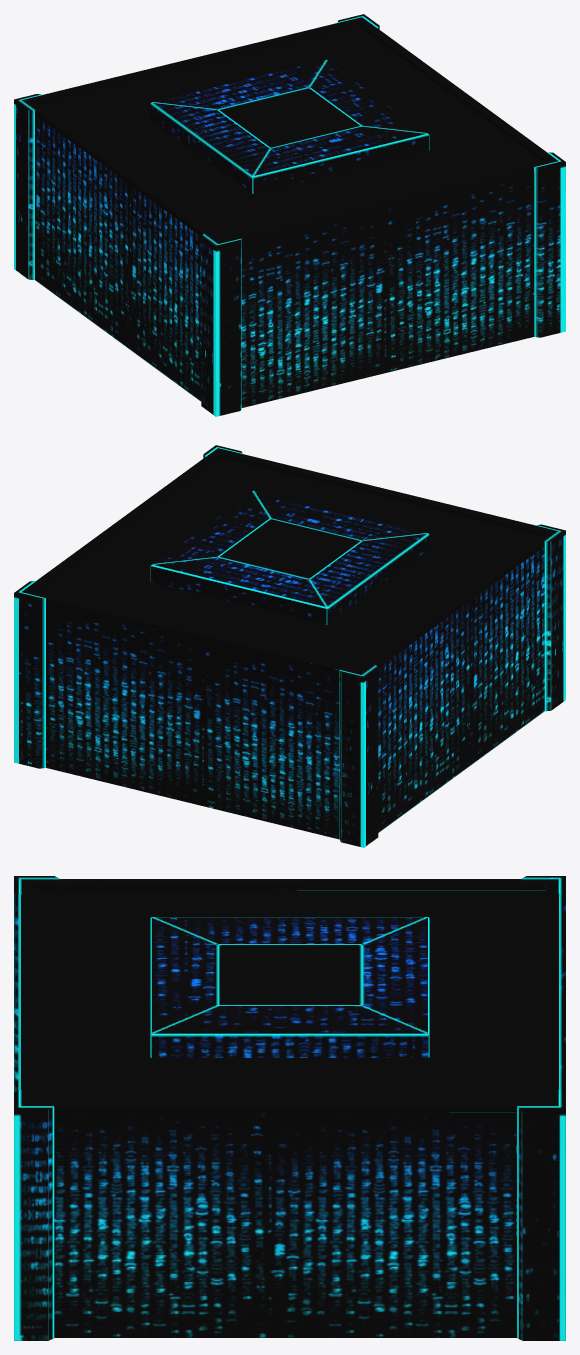
Rendered from Castle_s.gltf.
3 views of the same model, one above another, from view 1: azimuth 30°, elevation 25°; view 2: azimuth 150°, elevation 25°; view 3: azimuth 270°, elevation 25° (orthographic). The views are drawn at different scales.
Parts seen in each view (by area): view 1: Cube.005_Cube.008; view 2: Cube.005_Cube.008; view 3: Cube.005_Cube.008.
Part boxes in pixels (x1,y1,x2,y2): Cube.005_Cube.008: (14, 14, 565, 416); Cube.005_Cube.008: (14, 445, 565, 847); Cube.005_Cube.008: (14, 876, 565, 1340).
Bounding box in the file's own units: 40.01 × 19.92 × 40.01.
Materials: 3 (3 with a texture image).
